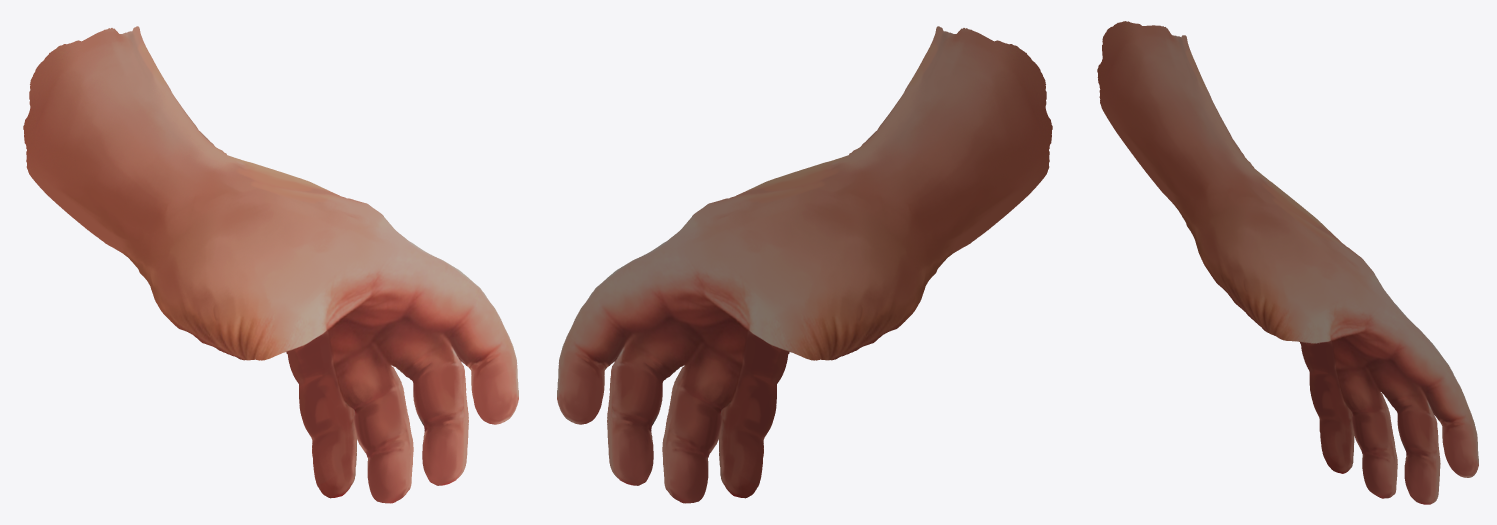
The model's file is hand_2.FBX.
The picture shows the model from 3 angles, left to right: view 1: azimuth 30°, elevation 25°; view 2: azimuth 150°, elevation 25°; view 3: azimuth 330°, elevation 25°; orthographic projection. The views are drawn at different scales.
Visible parts, largest first — view 1: hand_2; view 2: hand_2; view 3: hand_2.
Part boxes in pixels (bbox=[...]): hand_2: bbox=[23, 26, 518, 503]; hand_2: bbox=[557, 26, 1052, 503]; hand_2: bbox=[1097, 21, 1478, 504].
Size of the model in its own units: 808 by 859 by 5.67e-05.
1 material, 1 textured.
